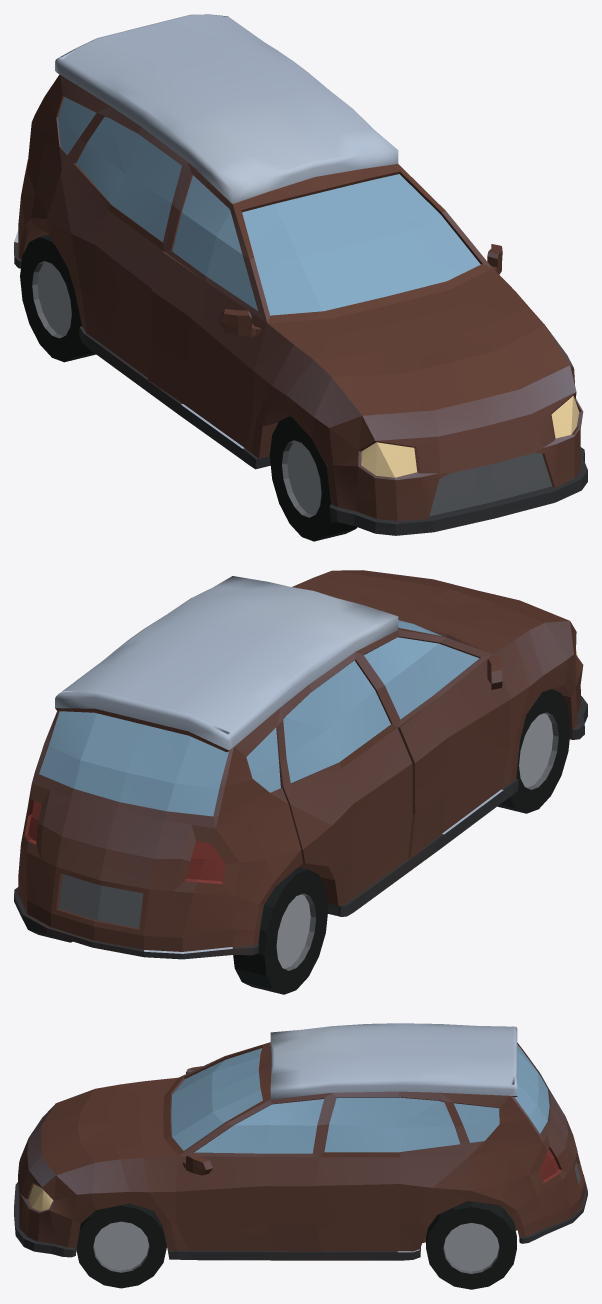
The model's file is suv_clean.glb.
The picture shows the model from 3 angles, top to bottom: view 1: azimuth 30°, elevation 25°; view 2: azimuth 150°, elevation 25°; view 3: azimuth 270°, elevation 25°; orthographic projection. The views are drawn at different scales.
Visible parts, largest first — view 1: Body, Glass; view 2: Body, Glass; view 3: Body, Glass.
Part boxes in pixels (x1,y1,x2,y2): Body: (14,14,587,541); Glass: (57,97,480,315); Body: (14,570,587,994); Glass: (39,620,479,816); Body: (14,1023,587,1289); Glass: (171,1044,549,1153).
Bounding box in the file's own units: 1.95 × 1.85 × 4.8.
